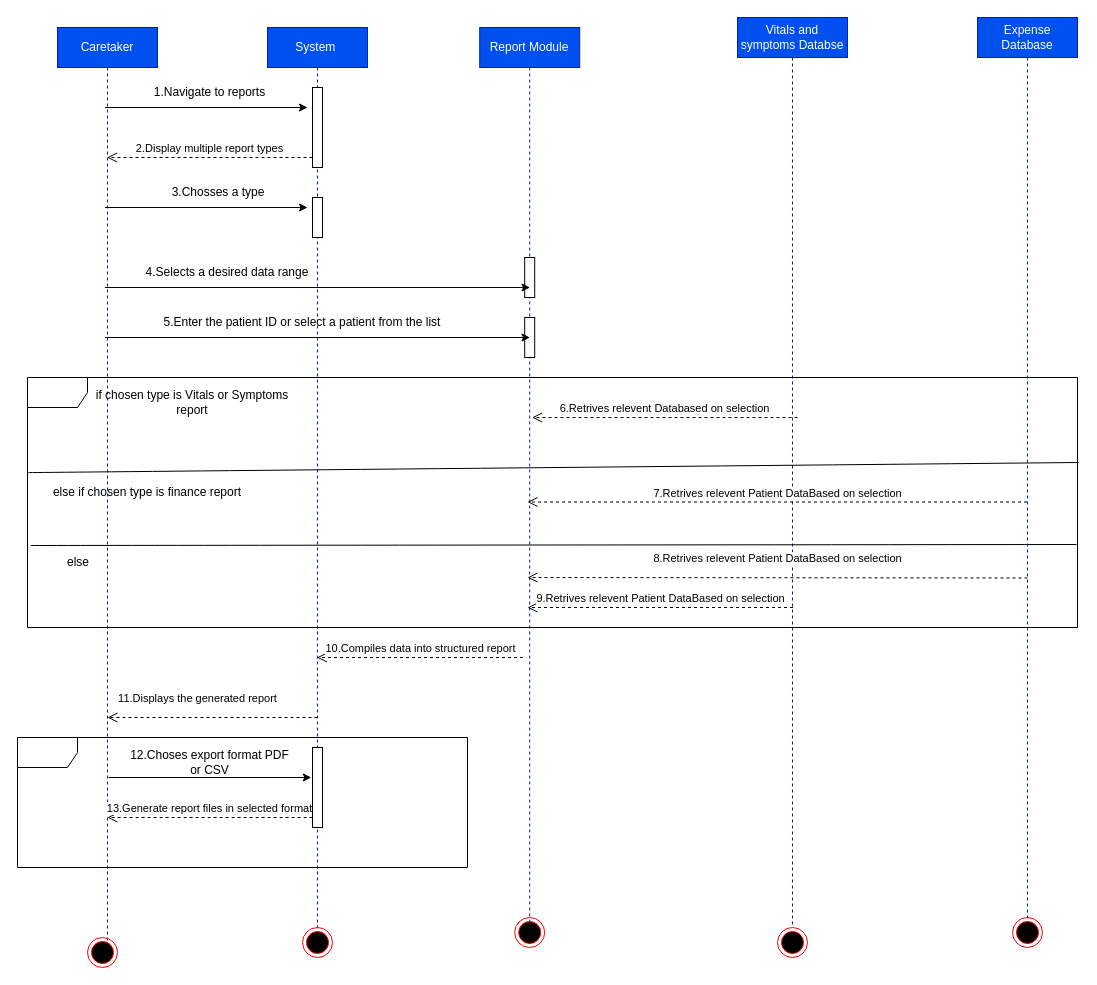
Some shapes in this 1097 by 985 pixel diagram are drawn without their labels. Here are the shapes that lost their labels. From the top down, the box of each, then its label:
(26, 376, 1078, 628): alt
(16, 736, 468, 868): seq if chosses to export
